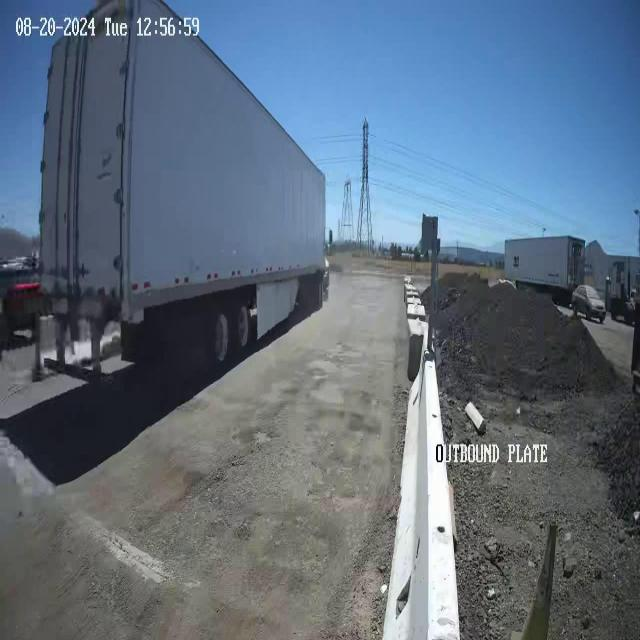TRUCK_CONTAINER: (37, 0, 333, 384)
